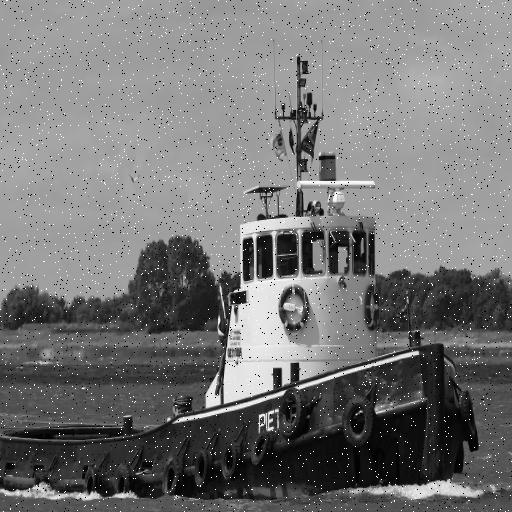tugboat: (1, 52, 484, 512)
